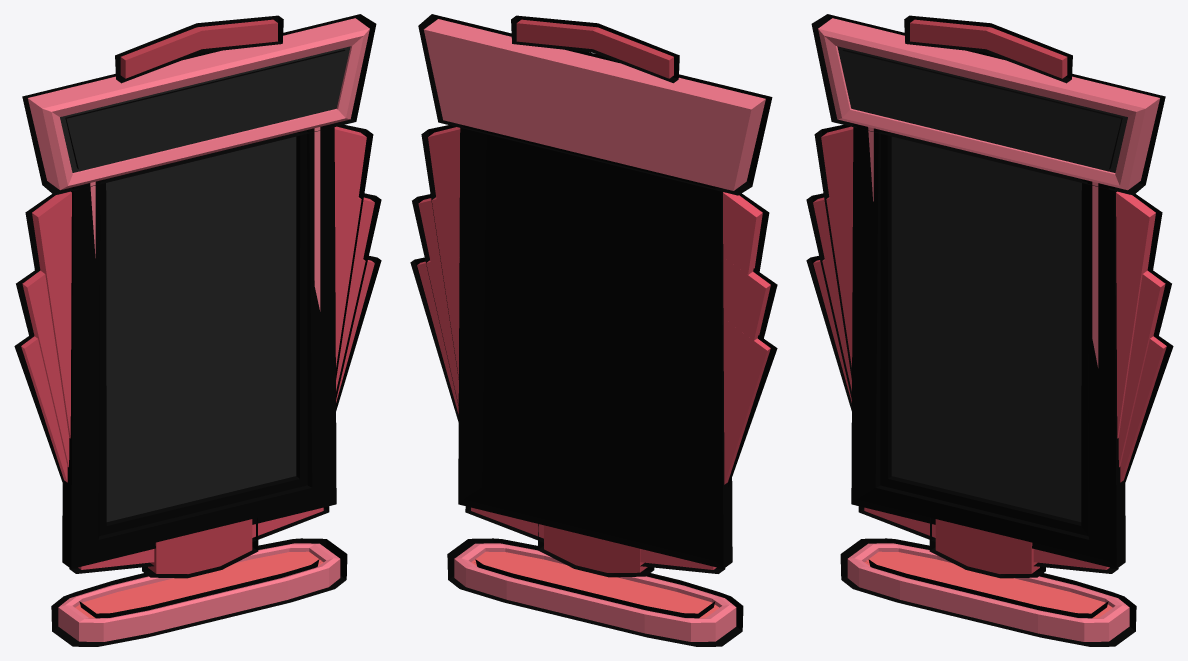
The model's file is Leaderboard.fbx.
3 views of the same model, side by side, from view 1: azimuth 30°, elevation 25°; view 2: azimuth 150°, elevation 25°; view 3: azimuth 330°, elevation 25° (orthographic).
Parts seen in each view (by area): view 1: Cube.040, Cube.003, Plane.020, Cube.046, Cube.042, Plane.021, Cube.044, Cube.043; view 2: Cube.003, Plane.020, Cube.046, Plane.021, Cube.044, Cube.043; view 3: Cube.040, Cube.003, Plane.020, Cube.046, Cube.042, Plane.021, Cube.044, Cube.043.
Part boxes in pixels (x1=…): Cube.040: x1=106, y1=136, x2=296, y2=521; Cube.003: x1=14, y1=14, x2=381, y2=646; Plane.020: x1=28, y1=18, x2=369, y2=641; Cube.046: x1=21, y1=126, x2=374, y2=569; Cube.042: x1=60, y1=46, x2=350, y2=172; Plane.021: x1=75, y1=551, x2=323, y2=618; Cube.044: x1=120, y1=19, x2=277, y2=78; Cube.043: x1=148, y1=519, x2=252, y2=573; Cube.003: x1=410, y1=14, x2=777, y2=646; Plane.020: x1=424, y1=19, x2=765, y2=641; Cube.046: x1=417, y1=127, x2=770, y2=569; Plane.021: x1=471, y1=551, x2=719, y2=618; Cube.044: x1=516, y1=19, x2=673, y2=78; Cube.043: x1=544, y1=525, x2=647, y2=572; Cube.040: x1=891, y1=136, x2=1081, y2=521; Cube.003: x1=806, y1=14, x2=1173, y2=646; Plane.020: x1=818, y1=18, x2=1159, y2=641; Cube.046: x1=813, y1=126, x2=1166, y2=569; Cube.042: x1=837, y1=46, x2=1127, y2=172; Plane.021: x1=864, y1=551, x2=1112, y2=618; Cube.044: x1=910, y1=19, x2=1067, y2=78; Cube.043: x1=935, y1=519, x2=1039, y2=573.
Bounding box in the file's own units: 28.41 × 43.38 × 5.41.
